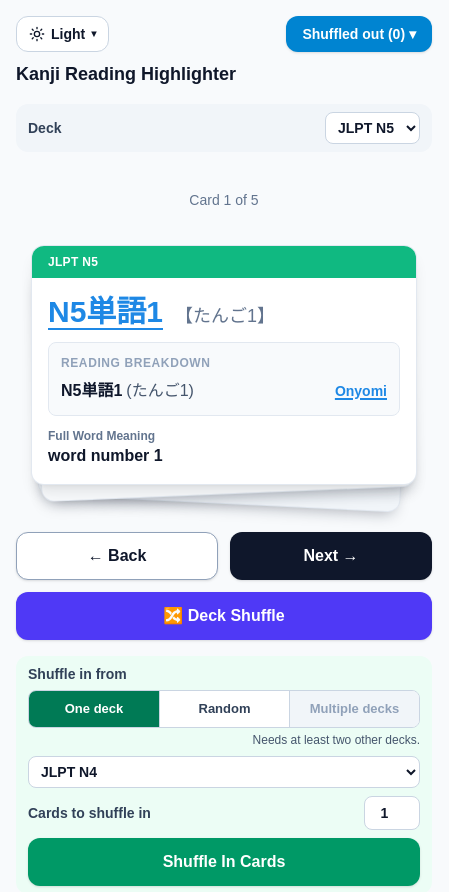
Scenario: the card on screen with missing data (answer 5) › moving on to a card whose data is missing shows the deck-wide message, not "This card can't be shown.", and logs "Card on screen has no data"
Expected: the text "Card 1 of 5" is shown, 189,192 -> 259,208
Click the button "Next →". click: (331, 556)
box: 230,532 -> 432,580
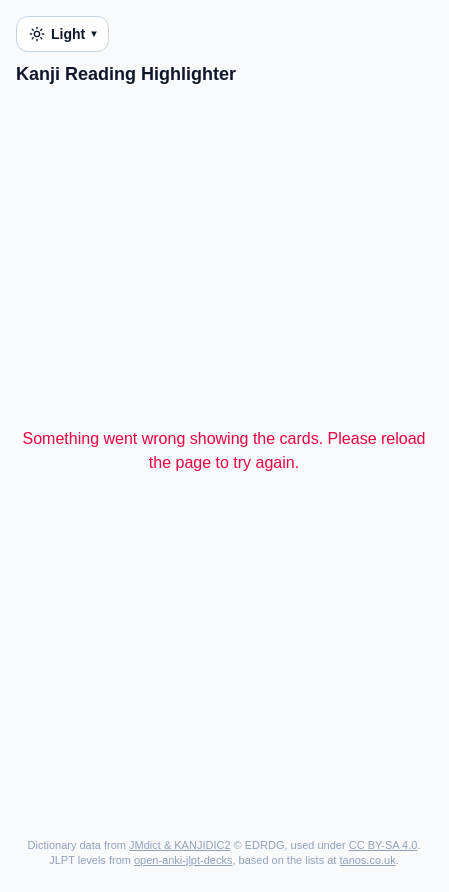
Expected: the message reads "Something went wrong showing the cards. Please reload the page to try again.", 22,430 -> 425,471
